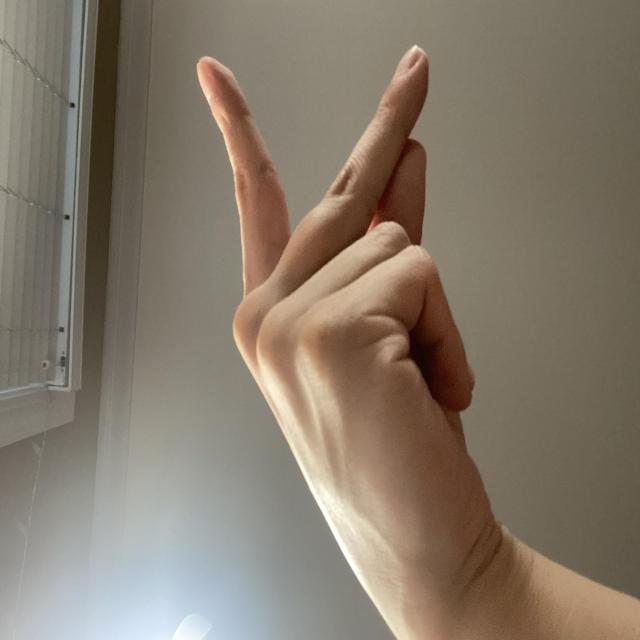P: (1, 256, 480, 640)
